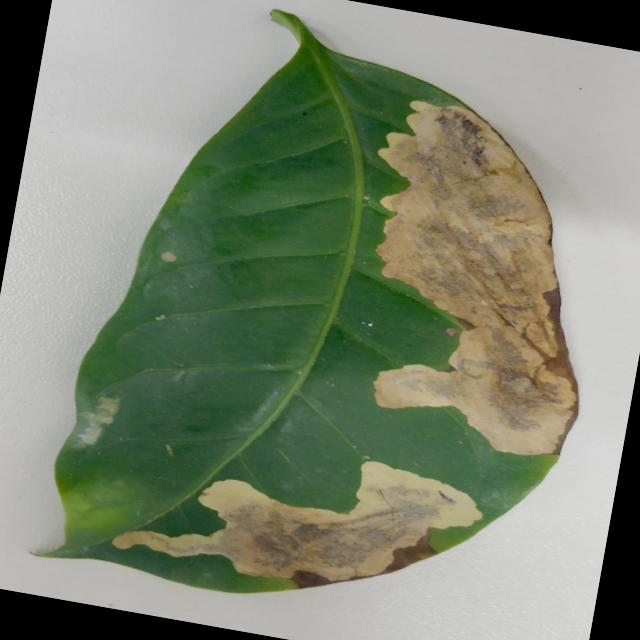PengorokDaunKopi: (374, 100, 578, 454), (373, 101, 576, 454), (112, 461, 480, 580), (379, 530, 436, 574), (77, 397, 118, 445), (292, 572, 330, 588), (160, 252, 175, 262), (155, 315, 165, 320)
